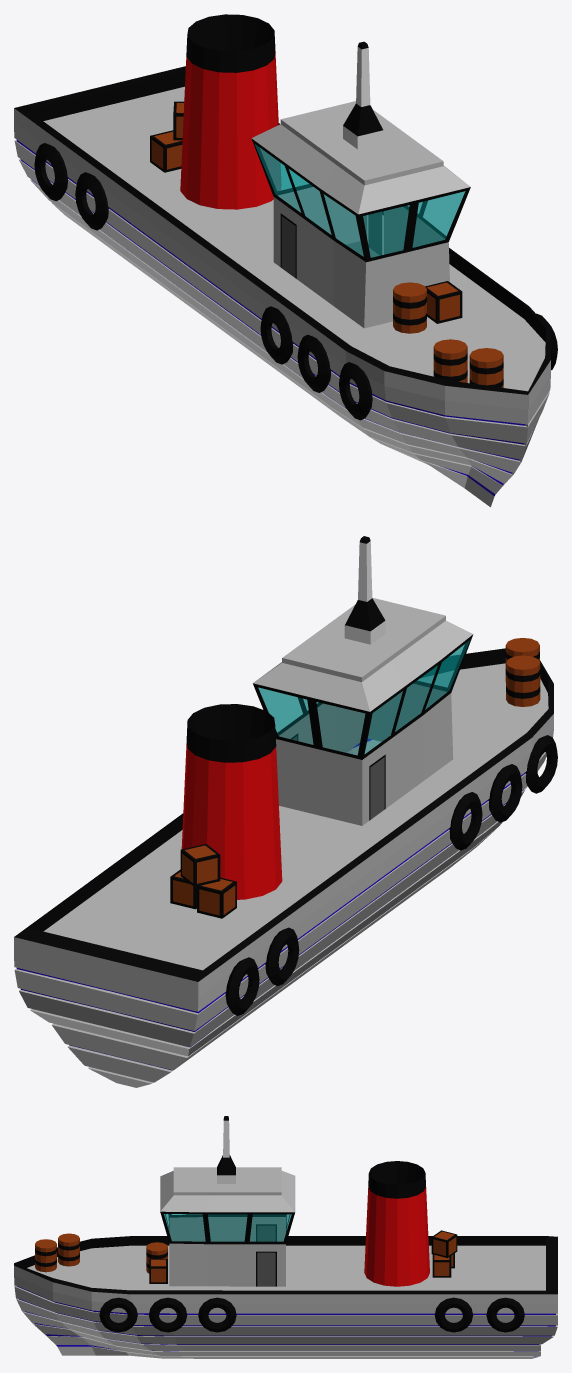
The model's file is BarcoPescaProjeto4.fbx.
3 views of the same model, one above another, from view 1: azimuth 30°, elevation 25°; view 2: azimuth 150°, elevation 25°; view 3: azimuth 270°, elevation 25° (orthographic). The views are drawn at different scales.
Parts seen in each view (by area): view 1: ShipHull, Sail, Wheel, Baril1, Box1, ShipAntena; view 2: ShipHull, Sail, Wheel, Box1, Baril1, ShipAntena; view 3: ShipHull, Sail, Wheel, Baril1, Box1, ShipAntena.
Part boxes in pixels (x1=…): ShipHull: x1=14, y1=66, x2=550, y2=507; Sail: x1=180, y1=14, x2=281, y2=209; Wheel: x1=34, y1=143, x2=557, y2=420; Baril1: x1=393, y1=282, x2=503, y2=387; Box1: x1=150, y1=101, x2=462, y2=323; ShipAntena: x1=343, y1=41, x2=383, y2=149; ShipHull: x1=14, y1=597, x2=553, y2=1087; Sail: x1=181, y1=704, x2=282, y2=899; Wheel: x1=225, y1=735, x2=557, y2=1015; Box1: x1=170, y1=844, x2=236, y2=918; Baril1: x1=505, y1=638, x2=540, y2=706; ShipAntena: x1=344, y1=536, x2=385, y2=644; ShipHull: x1=14, y1=1167, x2=557, y2=1358; Sail: x1=364, y1=1161, x2=429, y2=1286; Wheel: x1=99, y1=1297, x2=524, y2=1332; Baril1: x1=35, y1=1233, x2=167, y2=1273; Box1: x1=149, y1=1230, x2=457, y2=1283; ShipAntena: x1=217, y1=1116, x2=235, y2=1183.
Size of the model in its own units: 319 by 563 by 1162.
